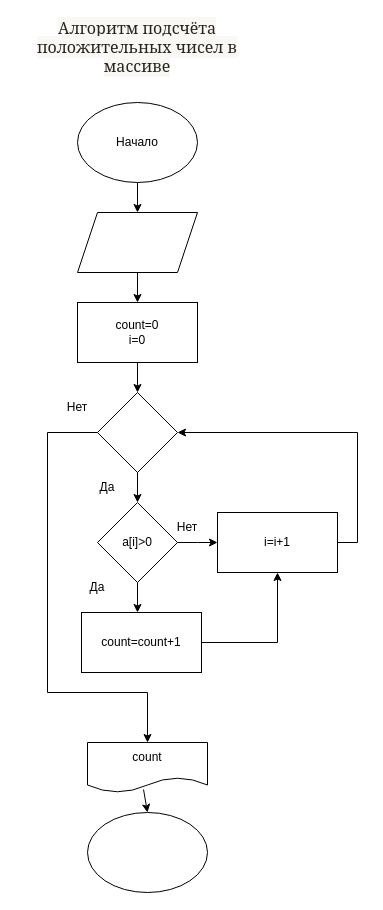
Some shapes in this 383 by 910 pixel diagram are drawn without their labels. Each missing label, with the box of its shape:
i<N: (96, 392, 178, 472)
N, A[]: (76, 212, 198, 272)
Конец: (86, 812, 208, 892)
